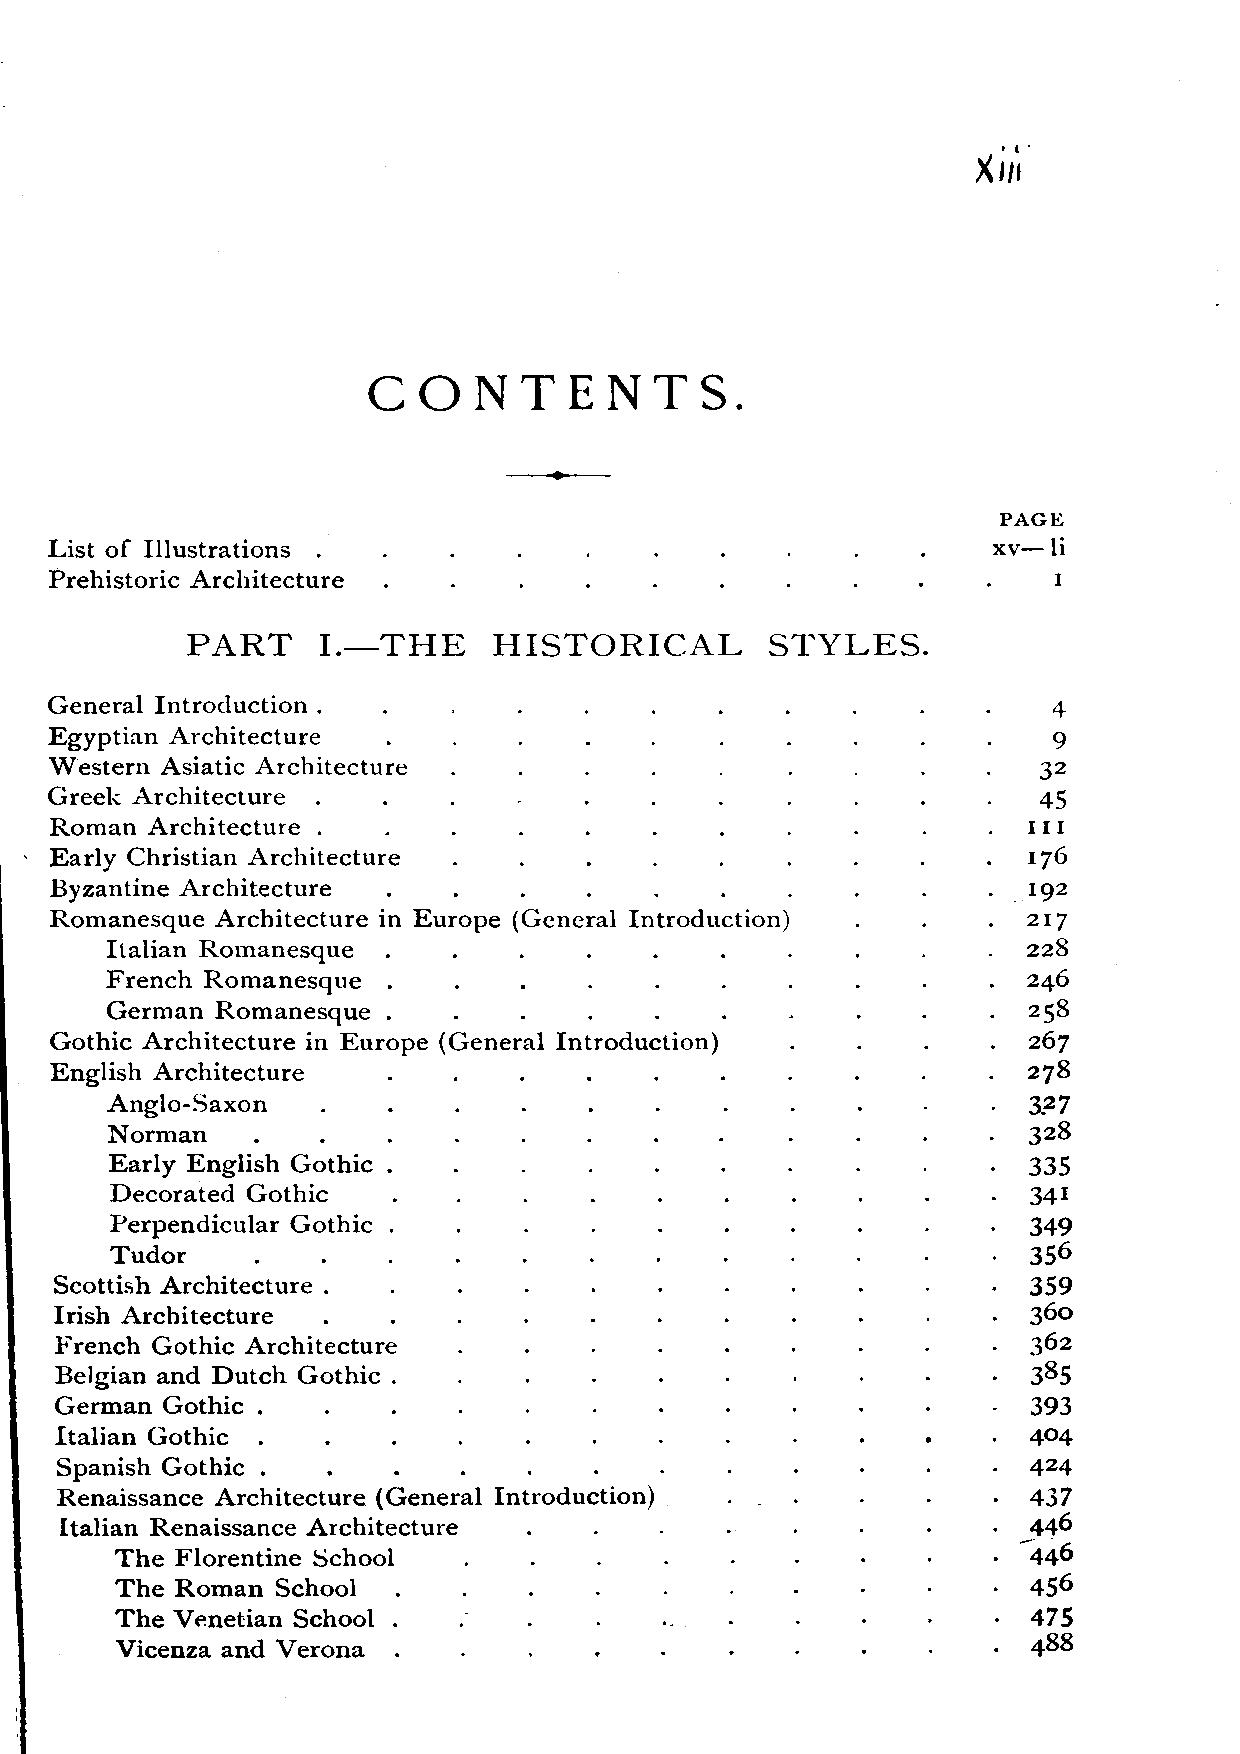TOC_chapter: (183, 627, 935, 663), (46, 906, 792, 931), (46, 1028, 718, 1055), (55, 1486, 658, 1508), (55, 1514, 460, 1537), (47, 754, 411, 778), (52, 1362, 384, 1388), (51, 1333, 400, 1357), (47, 845, 403, 868), (47, 564, 352, 589), (101, 997, 369, 1025), (46, 722, 322, 749), (46, 874, 335, 899), (103, 1150, 376, 1177), (101, 935, 356, 964), (110, 1604, 376, 1631), (46, 531, 298, 560), (102, 968, 362, 994), (111, 1543, 396, 1567), (115, 1635, 369, 1661), (46, 1059, 306, 1084), (107, 1210, 374, 1235), (111, 1573, 364, 1598), (47, 692, 309, 717), (46, 782, 289, 808), (48, 813, 302, 837), (52, 1302, 280, 1329), (50, 1272, 315, 1295), (52, 1452, 246, 1479), (107, 1181, 331, 1204), (52, 1392, 250, 1416), (52, 1421, 231, 1447), (101, 1090, 268, 1115), (103, 1121, 209, 1143), (107, 1241, 187, 1264)
TOC_pagenumber: (990, 535, 1070, 560), (1027, 1027, 1075, 1056), (1023, 1057, 1075, 1084), (1029, 1569, 1076, 1598), (1023, 966, 1070, 994), (1028, 1357, 1074, 1385), (1027, 1270, 1074, 1296), (1023, 935, 1072, 960), (1027, 878, 1071, 905), (1031, 1512, 1074, 1539), (1027, 1184, 1074, 1208), (1027, 1330, 1074, 1354), (1027, 1452, 1074, 1476), (1021, 848, 1071, 871), (1028, 1300, 1074, 1325), (1028, 1631, 1076, 1653), (1028, 1424, 1075, 1447), (1029, 1542, 1074, 1566), (1029, 1605, 1079, 1627), (1031, 1392, 1071, 1417), (1023, 909, 1071, 929), (1029, 1155, 1070, 1180), (1028, 1000, 1072, 1021), (1028, 1215, 1072, 1236), (1028, 1123, 1071, 1145), (1024, 817, 1074, 835), (1031, 1244, 1074, 1264), (1031, 1094, 1067, 1117), (1029, 1487, 1075, 1504), (1037, 757, 1068, 780), (1036, 789, 1068, 809), (1049, 565, 1068, 593), (1049, 727, 1068, 750), (1053, 697, 1068, 721)
chapter: (365, 370, 743, 412)
